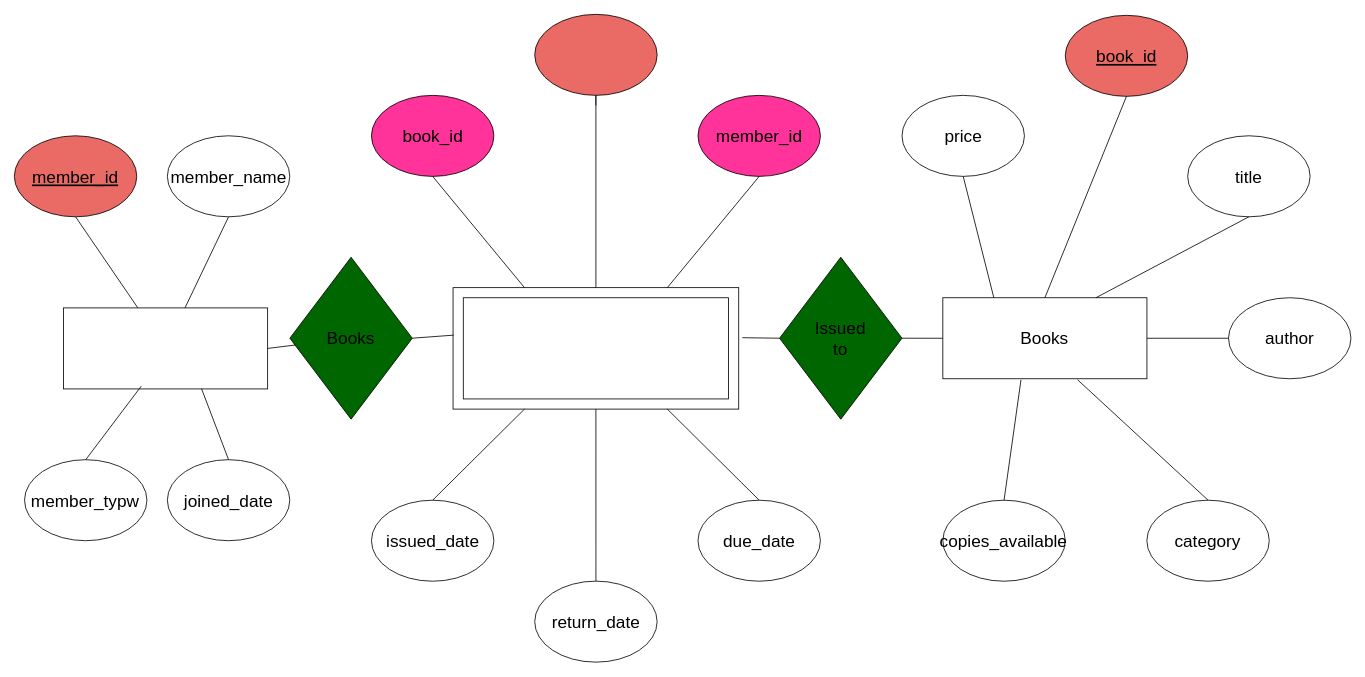
The diagram is 1365 pixels wide and 677 high, and some of its shapes have lost their labels. The centre of each missing label's shape, as x and y in pixels:
issued_id: [595,54]
Issues: [595,348]
Members: [165,348]
